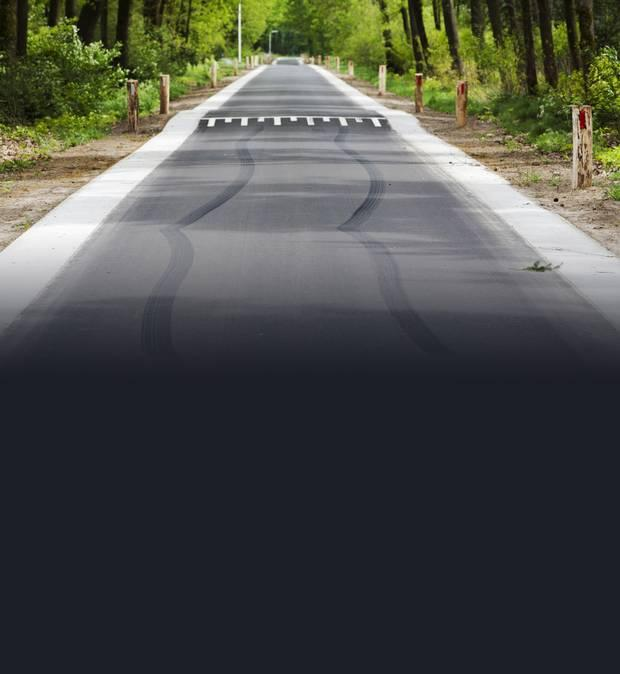Bump: (205, 117, 382, 130)
